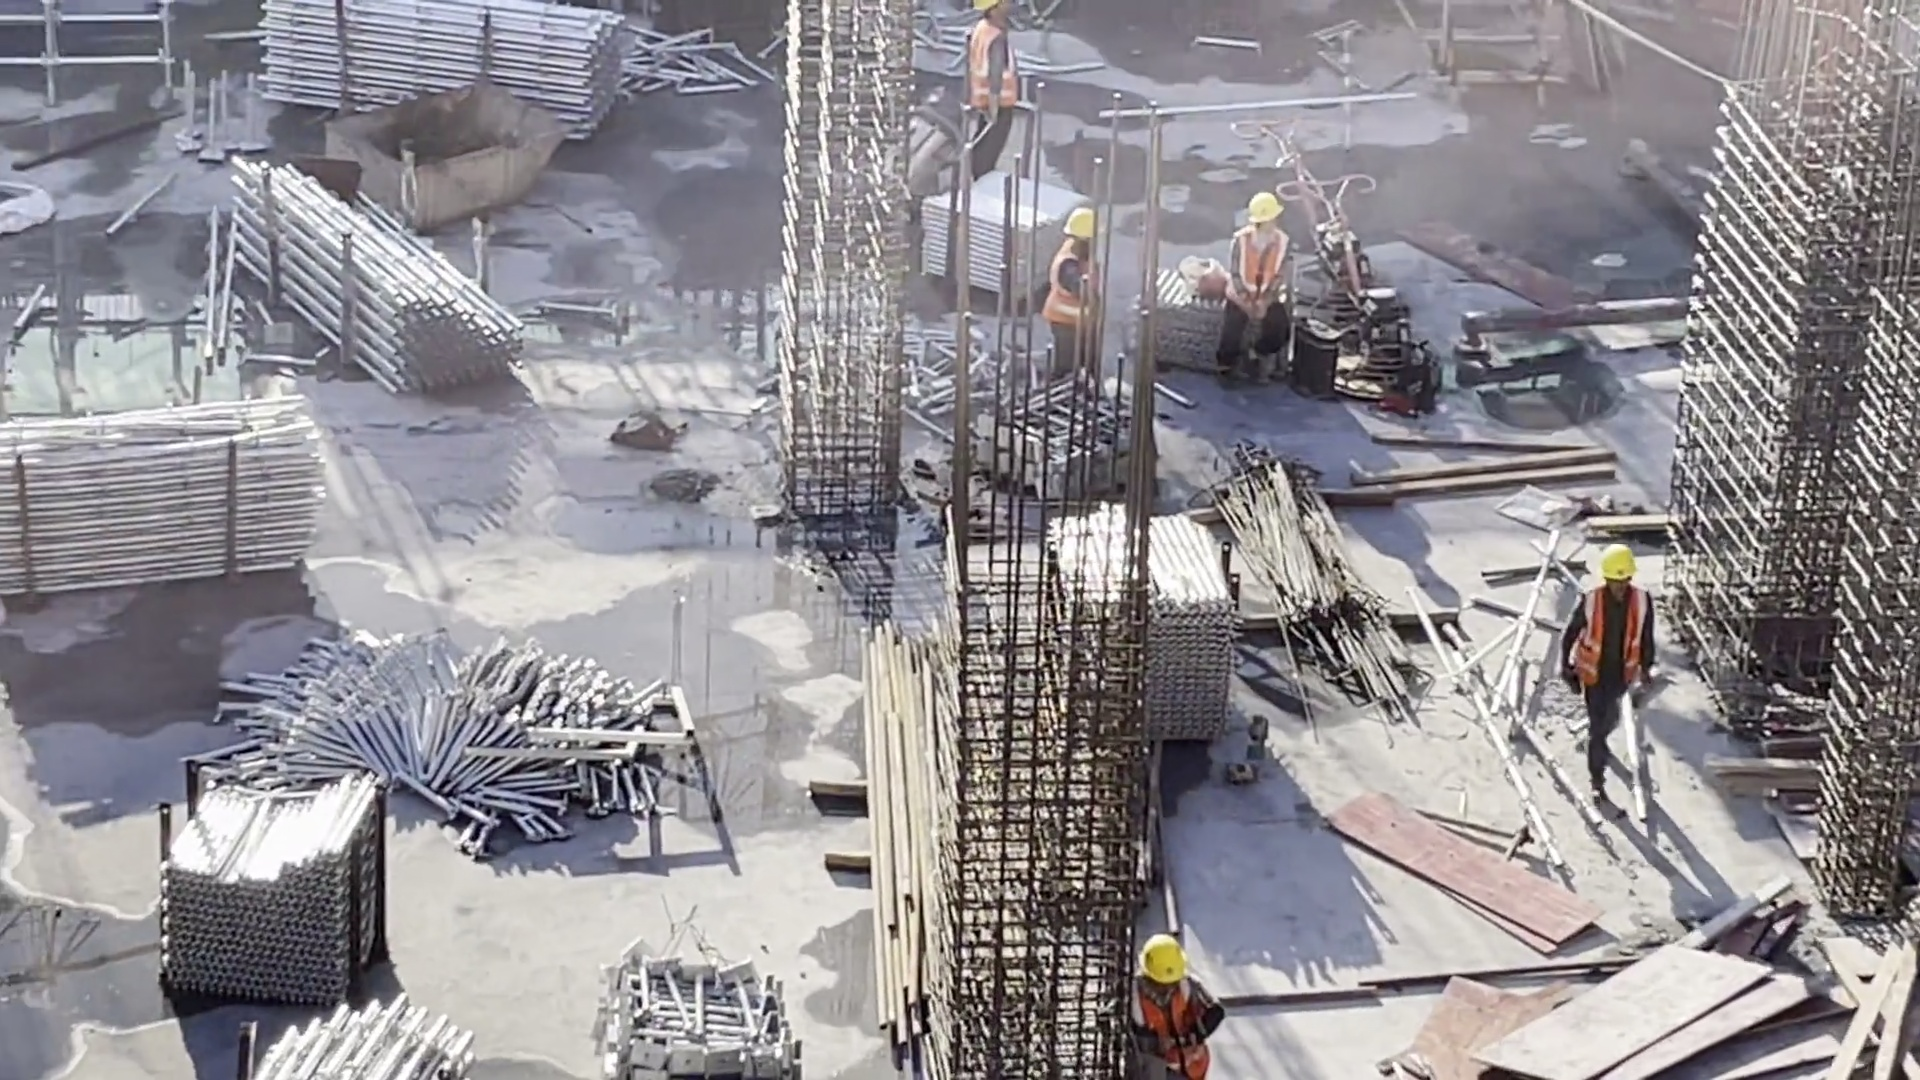board: (1486, 951, 1849, 1078)
helmet: (1144, 934, 1201, 987), (1600, 549, 1649, 583), (1066, 211, 1111, 242), (1251, 197, 1280, 226)
person: (1567, 538, 1654, 795), (1130, 927, 1232, 1080), (1221, 186, 1293, 394), (1048, 194, 1126, 385), (971, 1, 1026, 202)
scaffold: (233, 619, 696, 843), (225, 145, 534, 430), (1, 385, 353, 599), (1042, 507, 1271, 766), (129, 757, 423, 940), (254, 1, 626, 145), (899, 322, 1153, 526), (575, 933, 799, 1080), (223, 965, 492, 1080), (913, 154, 1101, 294)
vest: (1131, 977, 1217, 1072), (1579, 594, 1651, 693), (962, 12, 1019, 110), (1225, 231, 1285, 320), (1041, 248, 1105, 329)
